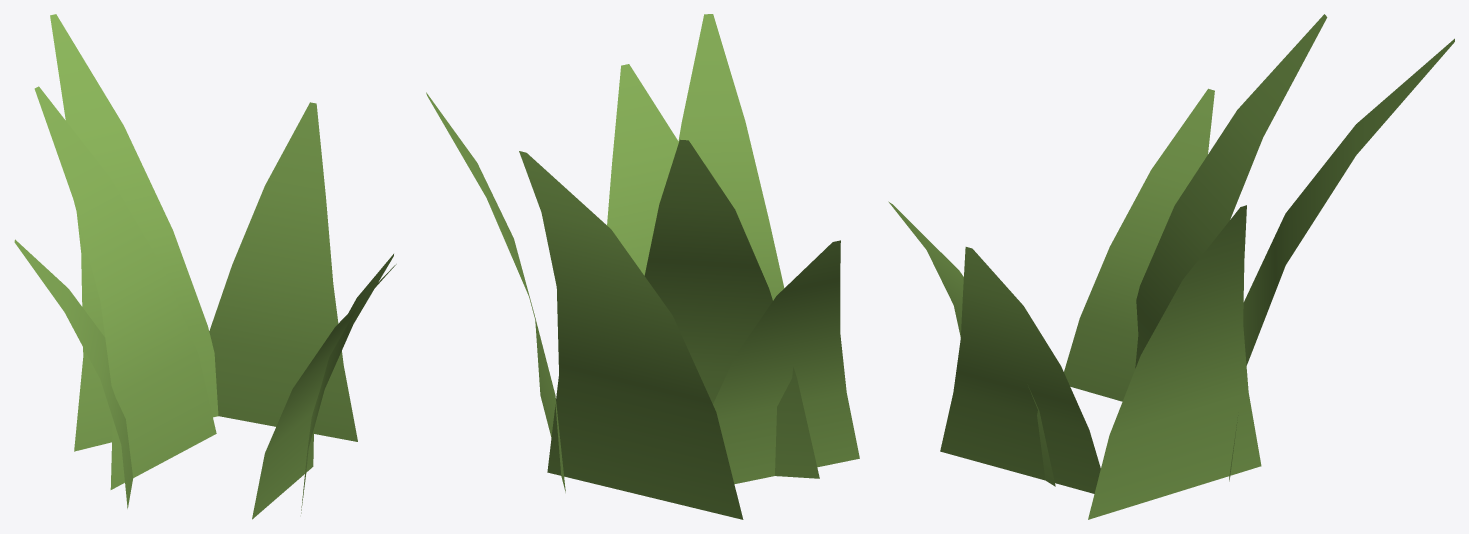
The model's file is grass_tuft_0.fbx.
3 views of the same model, side by side, from view 1: azimuth 30°, elevation 25°; view 2: azimuth 150°, elevation 25°; view 3: azimuth 270°, elevation 25° (orthographic). The views are drawn at different scales.
Parts seen in each view (by area): view 1: grass_tuft_0; view 2: grass_tuft_0; view 3: grass_tuft_0.
Part boxes in pixels (box(x1,y1,x2,y2)): grass_tuft_0: box(14, 14, 396, 519); grass_tuft_0: box(426, 14, 859, 519); grass_tuft_0: box(888, 14, 1454, 519).
Size of the model in its own units: 0.051 by 0.0533 by 0.0688.
